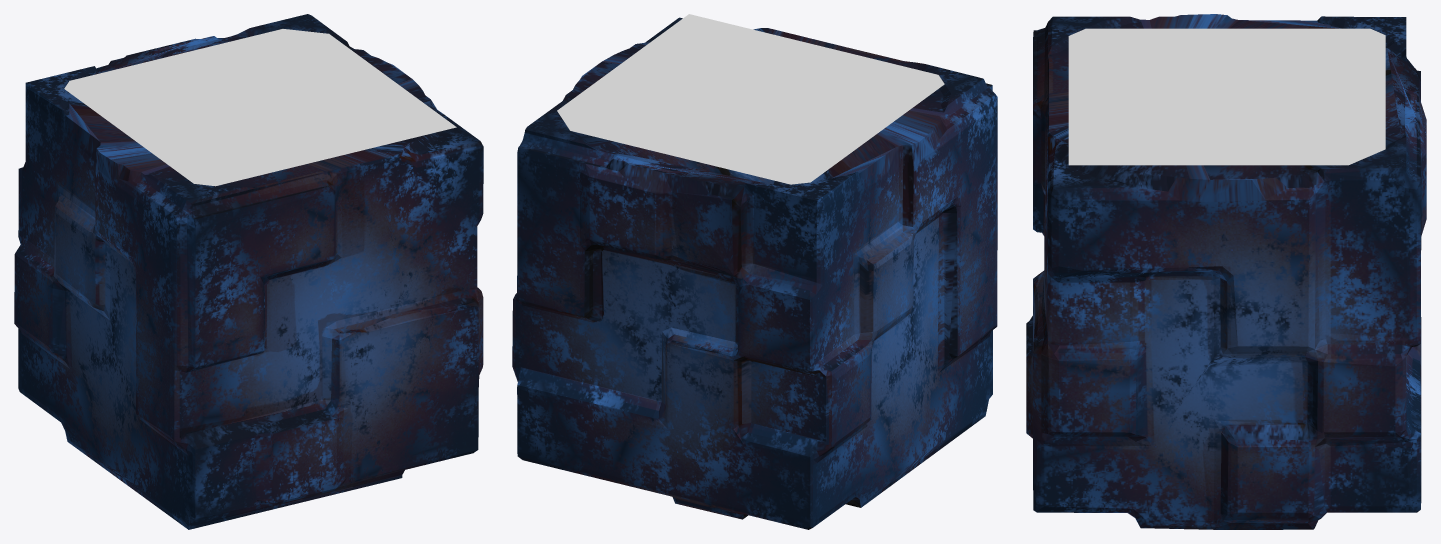
Rendered from BoxHellevator.fbx.
3 views of the same model, side by side, from view 1: azimuth 30°, elevation 25°; view 2: azimuth 150°, elevation 25°; view 3: azimuth 270°, elevation 25° (orthographic). The views are drawn at different scales.
Visible parts, largest first — view 1: Box Hellevator FINAL; view 2: Box Hellevator FINAL; view 3: Box Hellevator FINAL.
Part boxes in pixels (box(x1,y1,x2,y2)): Box Hellevator FINAL: box(14, 14, 483, 529); Box Hellevator FINAL: box(512, 14, 997, 529); Box Hellevator FINAL: box(1026, 14, 1426, 529).
Size of the model in its own units: 200 by 200 by 200.
